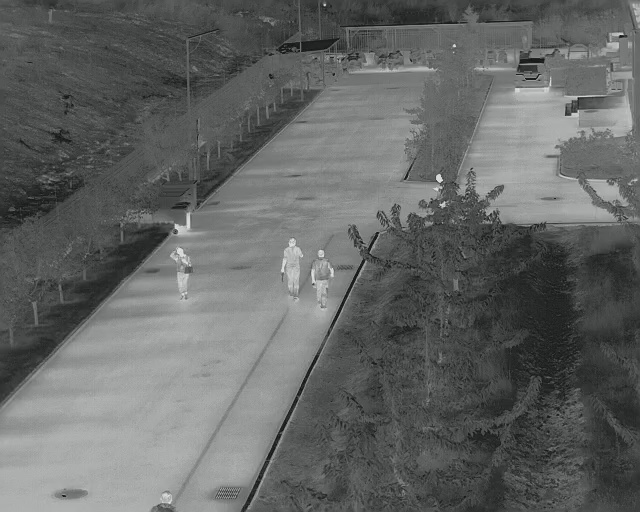person: (279, 236, 304, 306), (308, 246, 334, 312), (169, 243, 195, 304)
vehicle: (511, 56, 555, 96)
